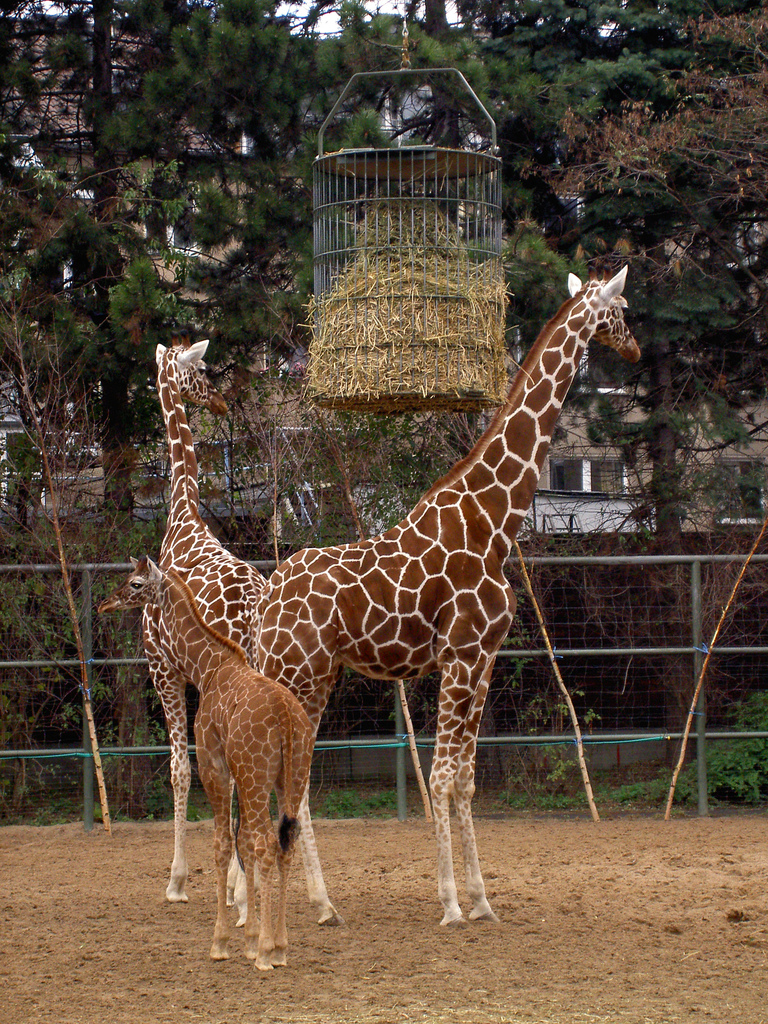giraffe: (250, 255, 669, 892), (121, 551, 313, 968), (110, 323, 256, 807)
